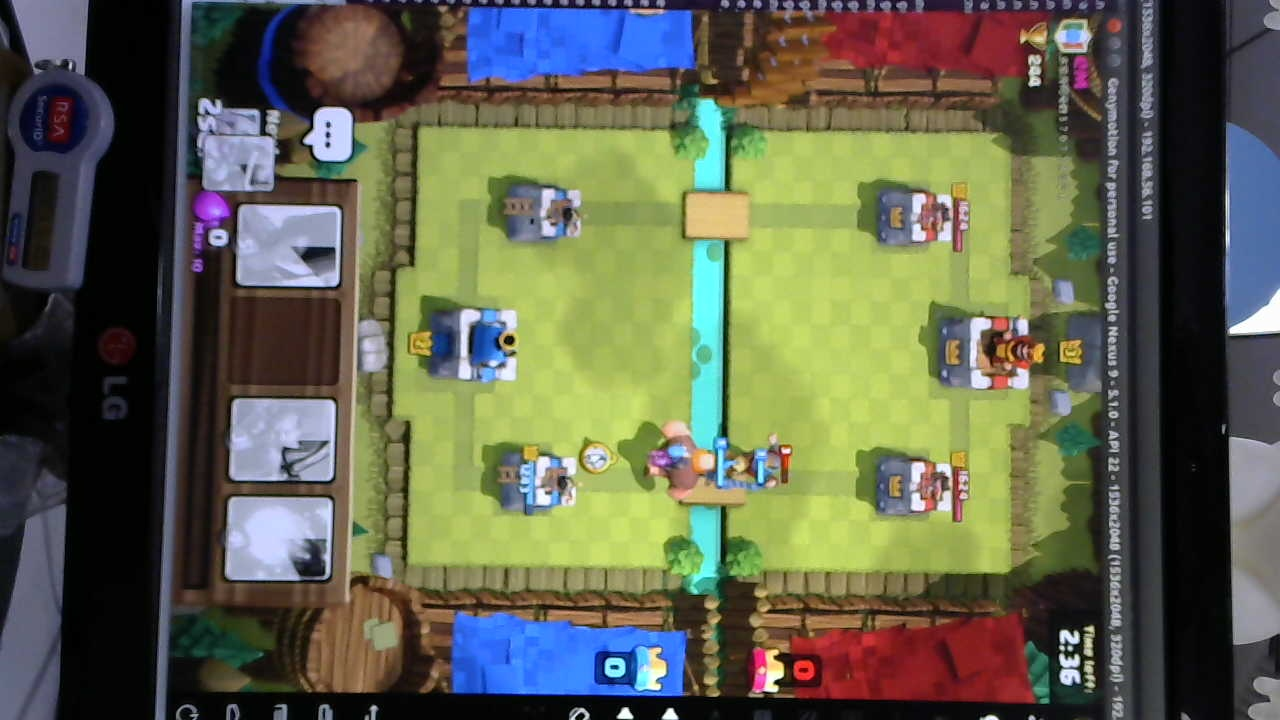arena: (498, 185, 588, 243), (499, 451, 581, 514)
earena: (873, 454, 953, 522), (872, 185, 953, 251)
eking: (936, 311, 1038, 392)
giant: (650, 417, 716, 503)
king: (429, 302, 523, 387)
knight: (741, 433, 785, 491)
prince: (715, 442, 761, 491)
